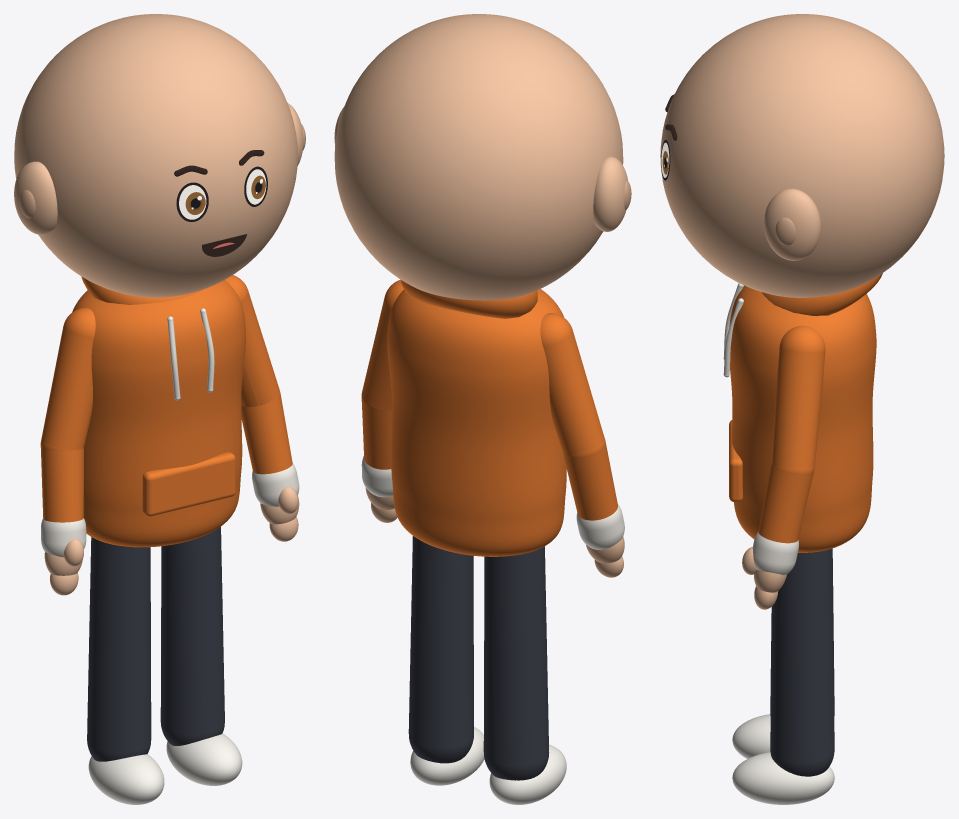
The model's file is hoofdpersonage.glb.
3 renders of one model, left to right at view 1: azimuth 30°, elevation 25°; view 2: azimuth 150°, elevation 25°; view 3: azimuth 270°, elevation 25°, orthographic.
Parts seen in each view (by area): view 1: Bram, Bram_part_17; view 2: Bram, Bram_part_17; view 3: Bram, Bram_part_24.
Boxes of the visible parts, box(x1,y1,x2,y2) form: Bram: box(14, 14, 305, 804); Bram_part_17: box(44, 552, 82, 575); Bram: box(334, 14, 631, 804); Bram_part_17: box(586, 536, 624, 563); Bram: box(660, 14, 944, 804); Bram_part_24: box(754, 569, 786, 592).
Bounding box in the file's own units: 0.6887 × 1.76 × 0.6.
